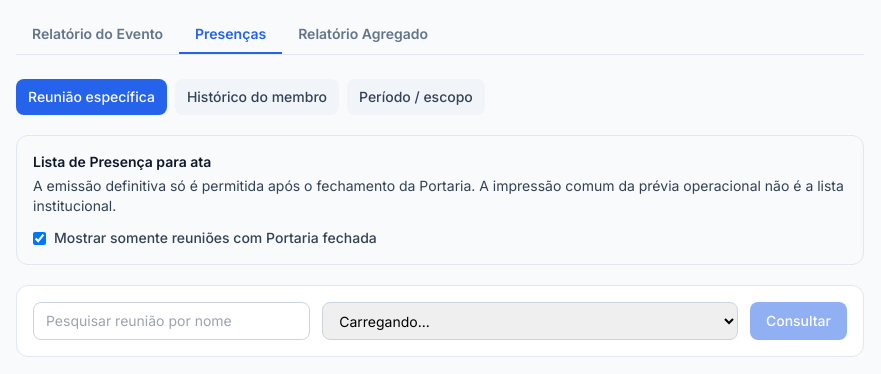
S12 — RelatoriosView (Frontend) › deve disponibilizar seletor amigável de evento no relatório
Click the button "Relatório do Evento".
click(98, 35)  # box left=16, top=16, right=179, bottom=54
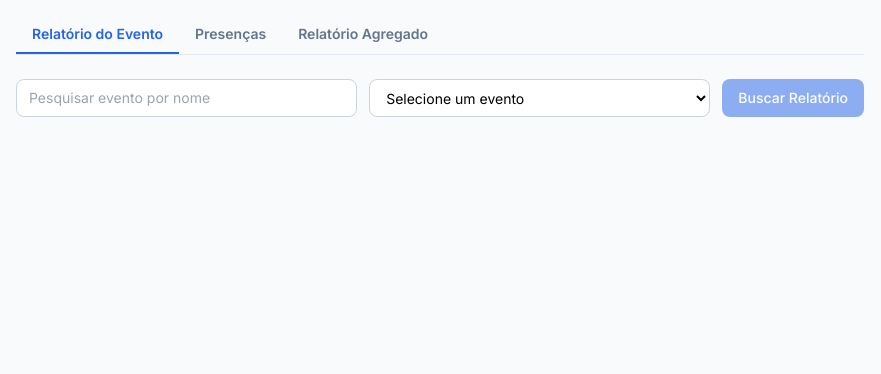
Expected: the field with placeholder "Pesquisar evento por nome" is shown, left=16, top=79, right=357, bottom=117
